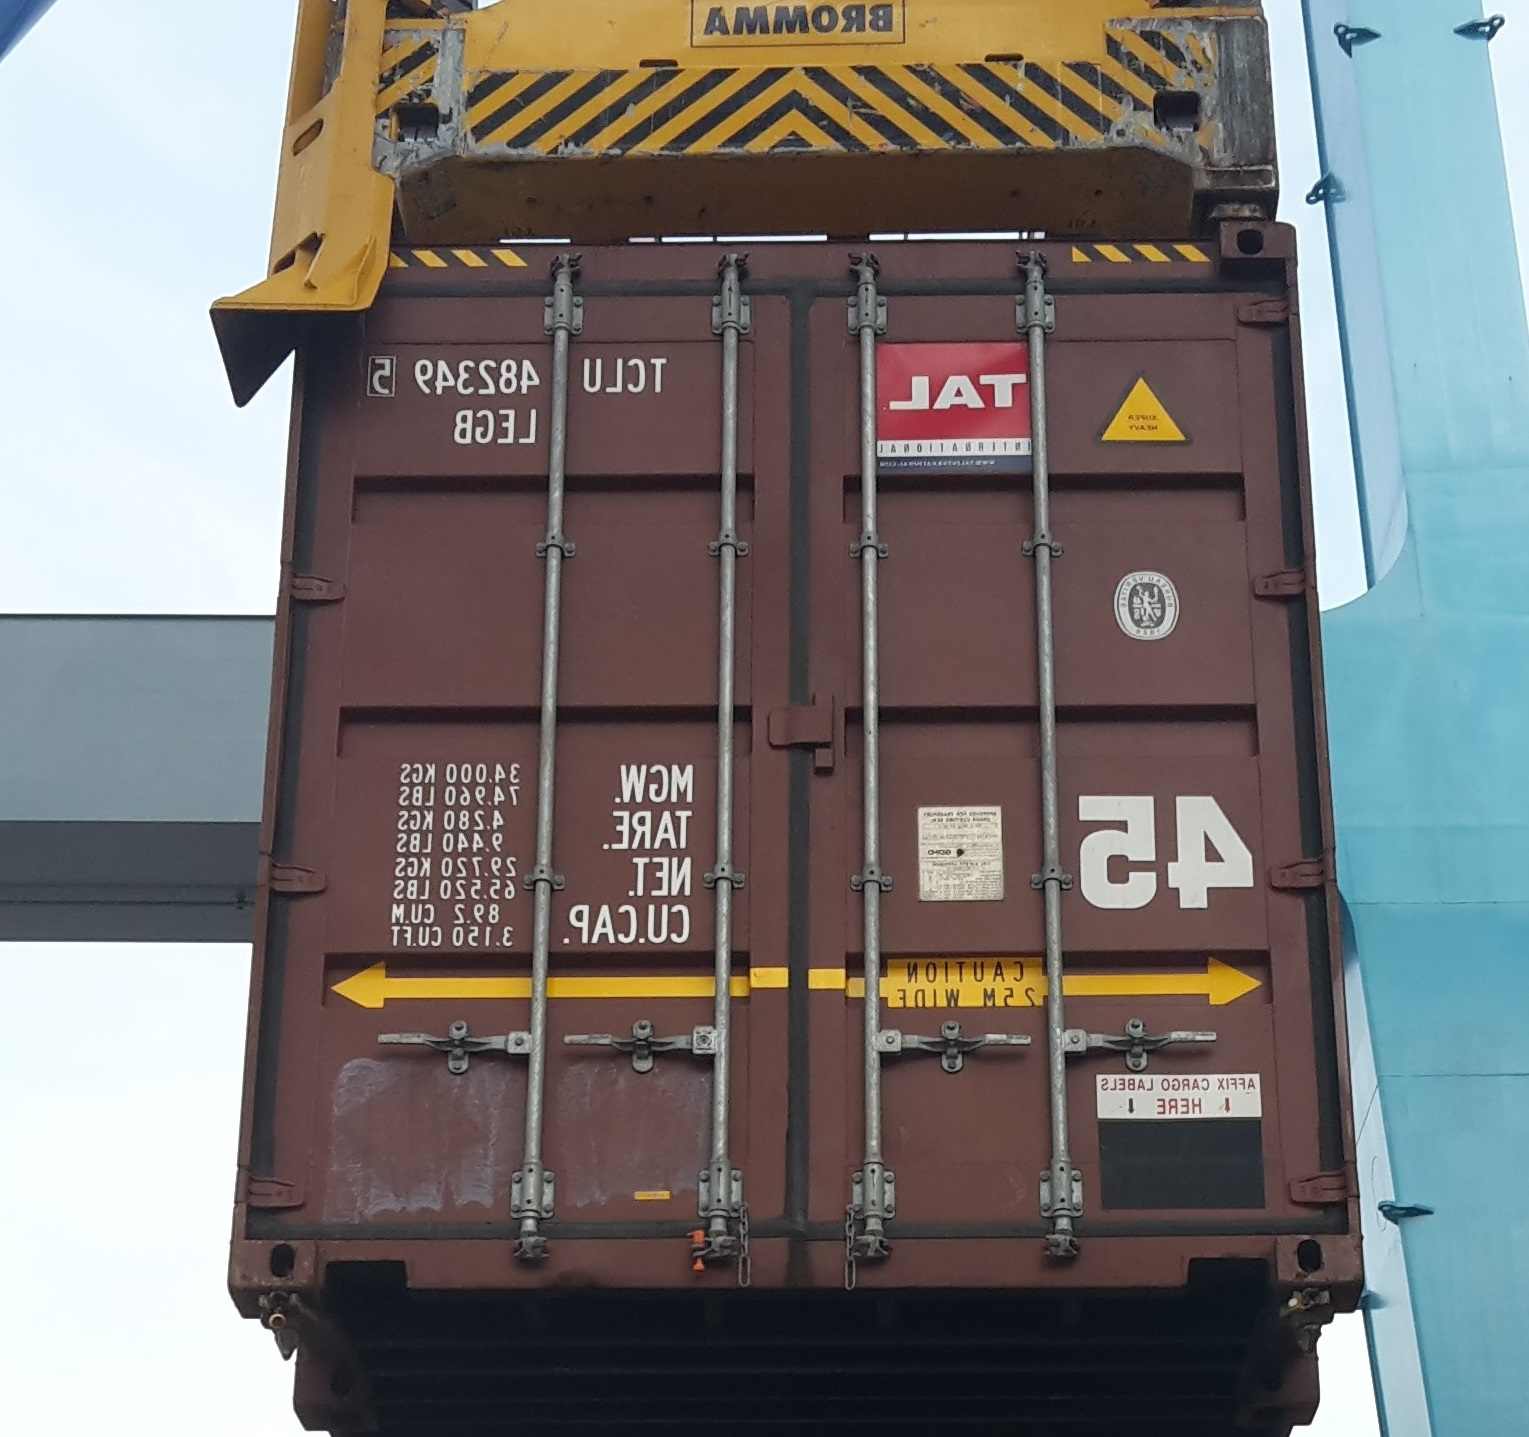container_door: (222, 226, 1352, 1292)
